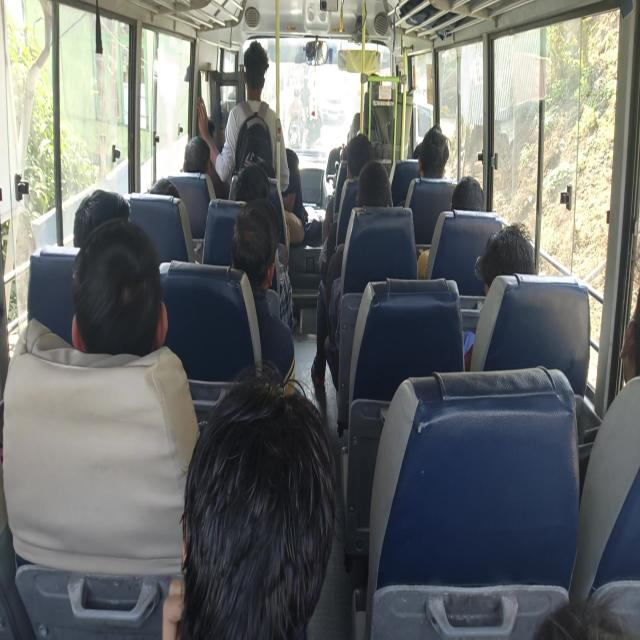person: (179, 364, 324, 640), (76, 236, 168, 365), (594, 288, 640, 470), (274, 140, 317, 273), (228, 210, 282, 305), (85, 176, 132, 269), (476, 215, 531, 294), (421, 104, 451, 194), (147, 182, 194, 239), (365, 162, 398, 230), (188, 129, 236, 172), (234, 154, 262, 225), (243, 41, 271, 109), (456, 175, 480, 240), (232, 142, 270, 180), (348, 126, 369, 185), (200, 102, 217, 137), (415, 138, 429, 166)
